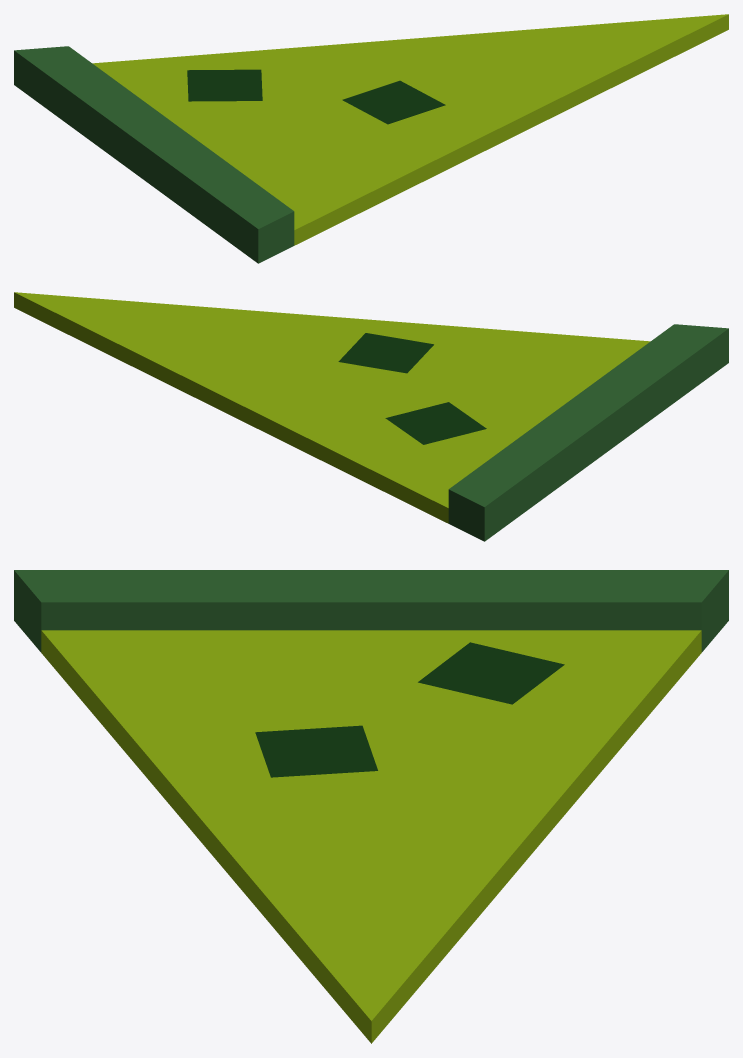
The model's file is pizza.obj.
The picture shows the model from 3 angles, top to bottom: view 1: azimuth 30°, elevation 25°; view 2: azimuth 150°, elevation 25°; view 3: azimuth 270°, elevation 25°; orthographic projection. The views are drawn at different scales.
Parts seen in each view (by area): view 1: Plane; view 2: Plane; view 3: Plane.
Part boxes in pixels (x1,y1,x2,y2): Plane: (14,14,728,263); Plane: (14,292,728,541); Plane: (14,570,728,1043).
Bounding box in the file's own units: 0.4547 × 0.0253 × 0.3246.
